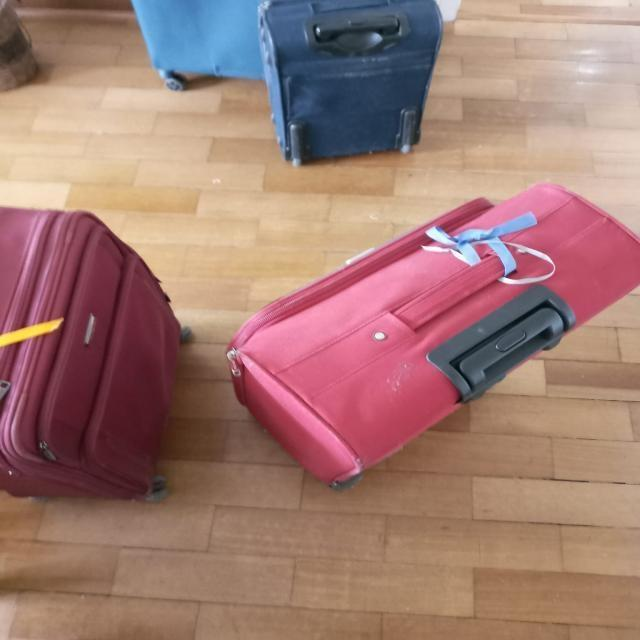Suitcase: (229, 177, 640, 493), (0, 207, 198, 497), (264, 0, 448, 160), (132, 0, 276, 86)
